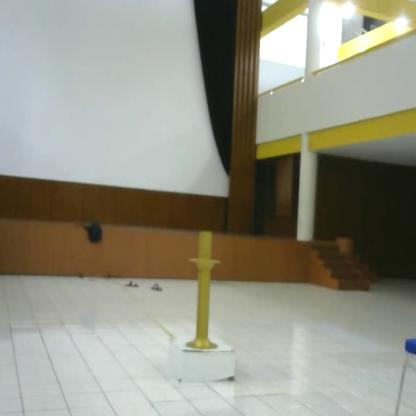pole: (185, 228, 221, 354)
